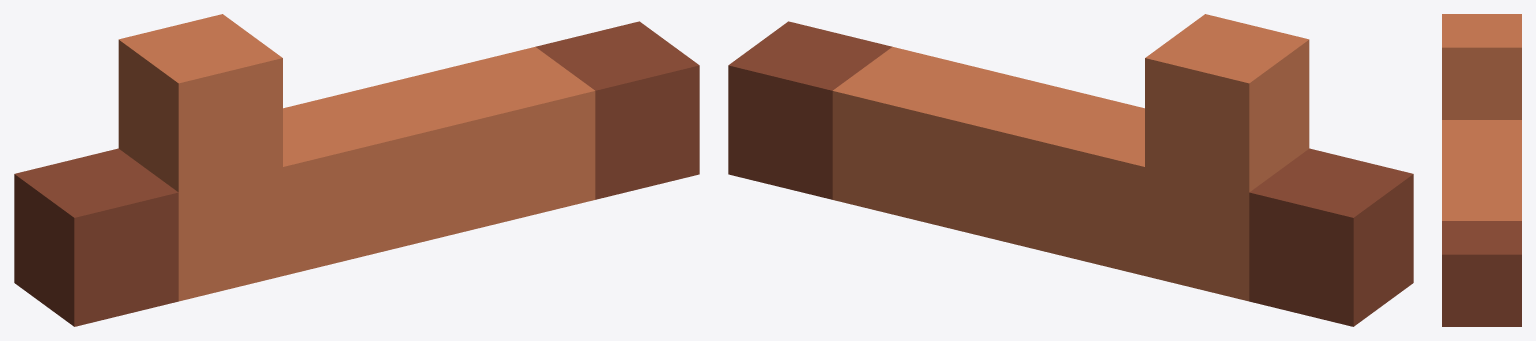
The model's file is wood-stick-02.glb.
The picture shows the model from 3 angles, left to right: view 1: azimuth 30°, elevation 25°; view 2: azimuth 150°, elevation 25°; view 3: azimuth 270°, elevation 25°; orthographic projection. The views are drawn at different scales.
Parts seen in each view (by area): view 1: generated(Clone); view 2: generated(Clone); view 3: generated(Clone).
Part boxes in pixels (x1,y1,x2,y2): generated(Clone): [14, 14, 699, 326]; generated(Clone): [728, 14, 1413, 326]; generated(Clone): [1442, 14, 1521, 326].
Size of the model in its own units: 6 by 2 by 1.
Materials: 1 (1 with a texture image).
